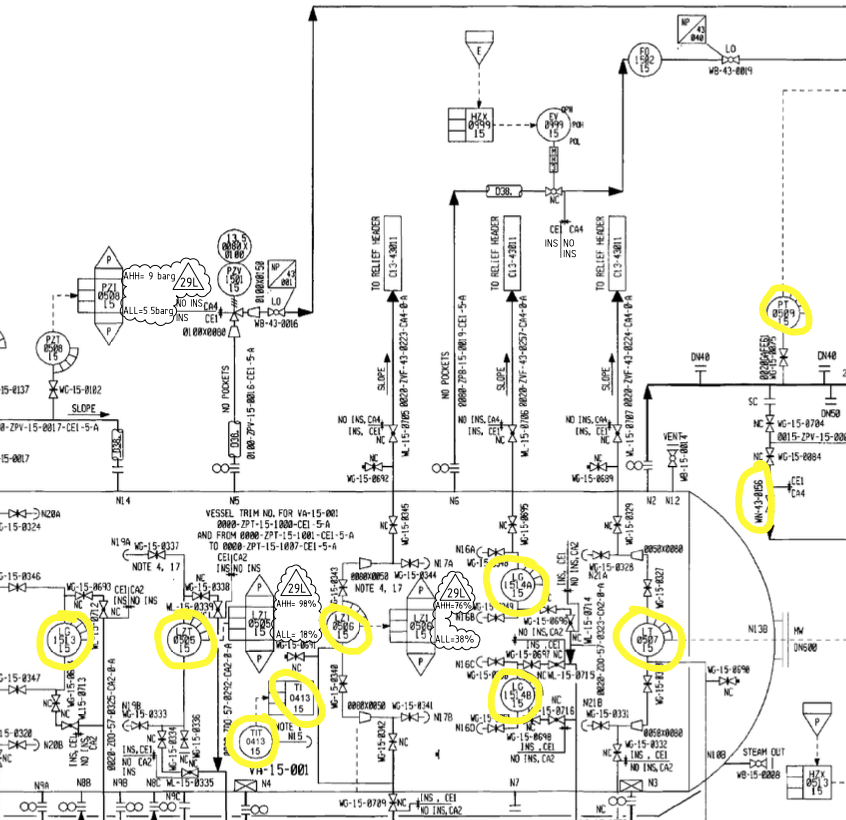Instrument: (40, 616, 90, 663), (622, 614, 669, 662), (501, 667, 541, 716), (498, 559, 538, 608), (30, 326, 76, 367), (164, 618, 205, 661), (626, 39, 666, 81), (213, 224, 256, 263), (322, 606, 362, 646), (535, 102, 572, 144), (237, 721, 273, 759), (214, 263, 252, 296)
Instrument-square: (258, 675, 324, 720), (438, 102, 503, 147), (778, 760, 839, 802), (226, 599, 277, 647), (266, 676, 321, 719), (384, 604, 437, 647), (87, 272, 128, 318)
